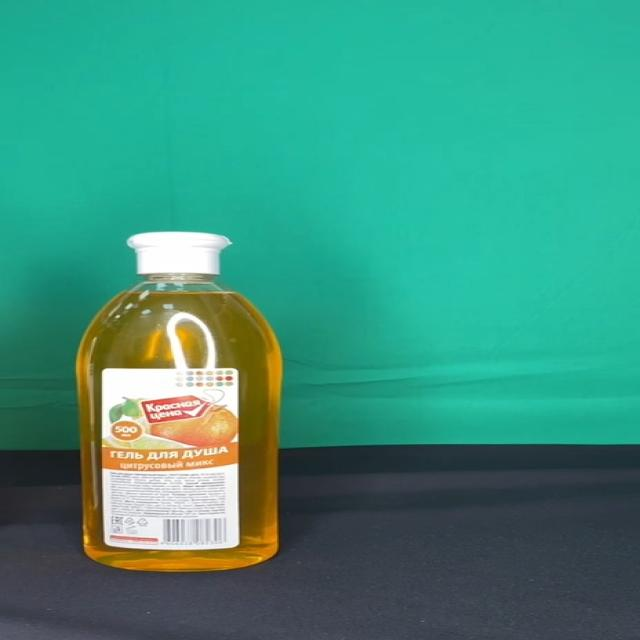Bottle: (75, 232, 284, 571)
Cap: (128, 232, 232, 274)
